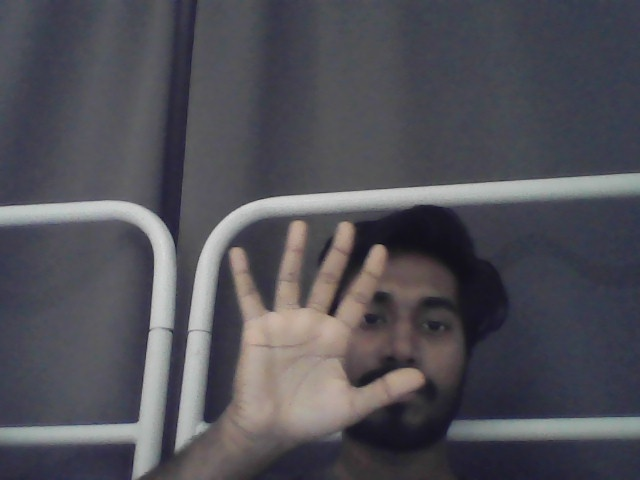hello: (228, 219, 426, 460)
